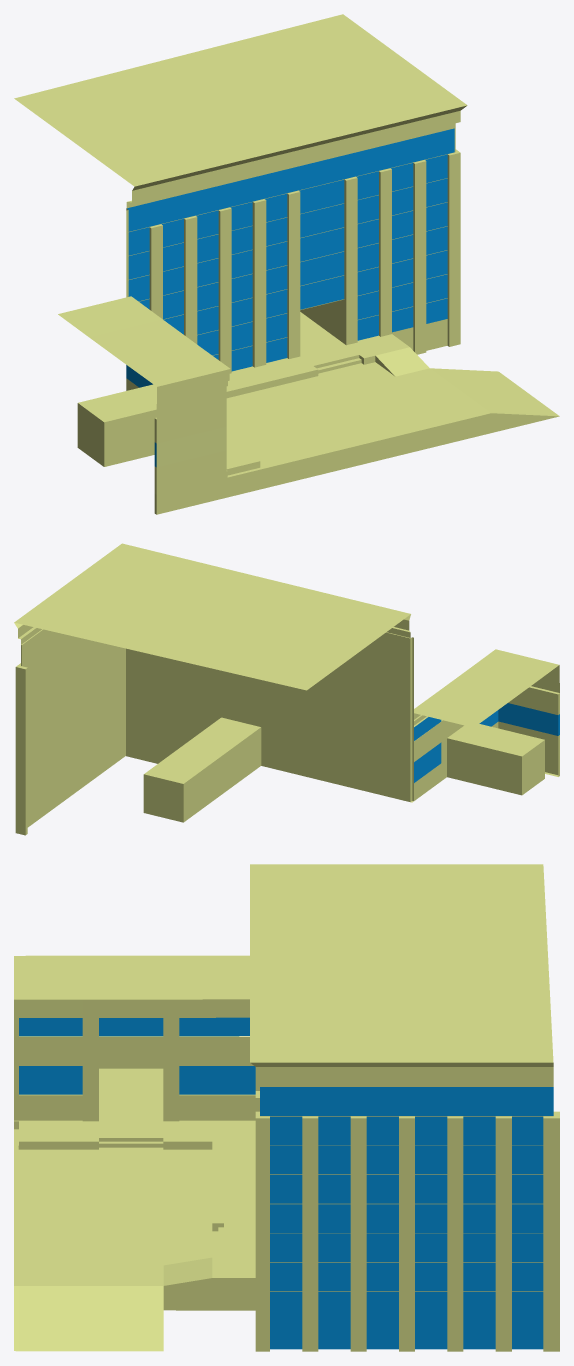
File: edificio.fbx
3 renders of one model, top to bottom at view 1: azimuth 30°, elevation 25°; view 2: azimuth 150°, elevation 25°; view 3: azimuth 270°, elevation 25°, orthographic. The views are drawn at different scales.
Parts seen in each view (by area): view 1: Cube; view 2: Cube; view 3: Cube.
Boxes of the visible parts, <box> form: Cube: <box>14,14,559,514</box>; Cube: <box>14,543,559,835</box>; Cube: <box>14,864,559,1351</box>.
Bounding box in the file's own units: 1856 × 998 × 1693.
